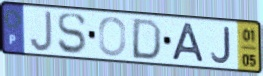A: (169, 22, 207, 65)
D: (129, 17, 164, 62)
J: (29, 9, 54, 53), (210, 26, 233, 65)
O: (97, 15, 128, 58)
S: (56, 12, 88, 56)
